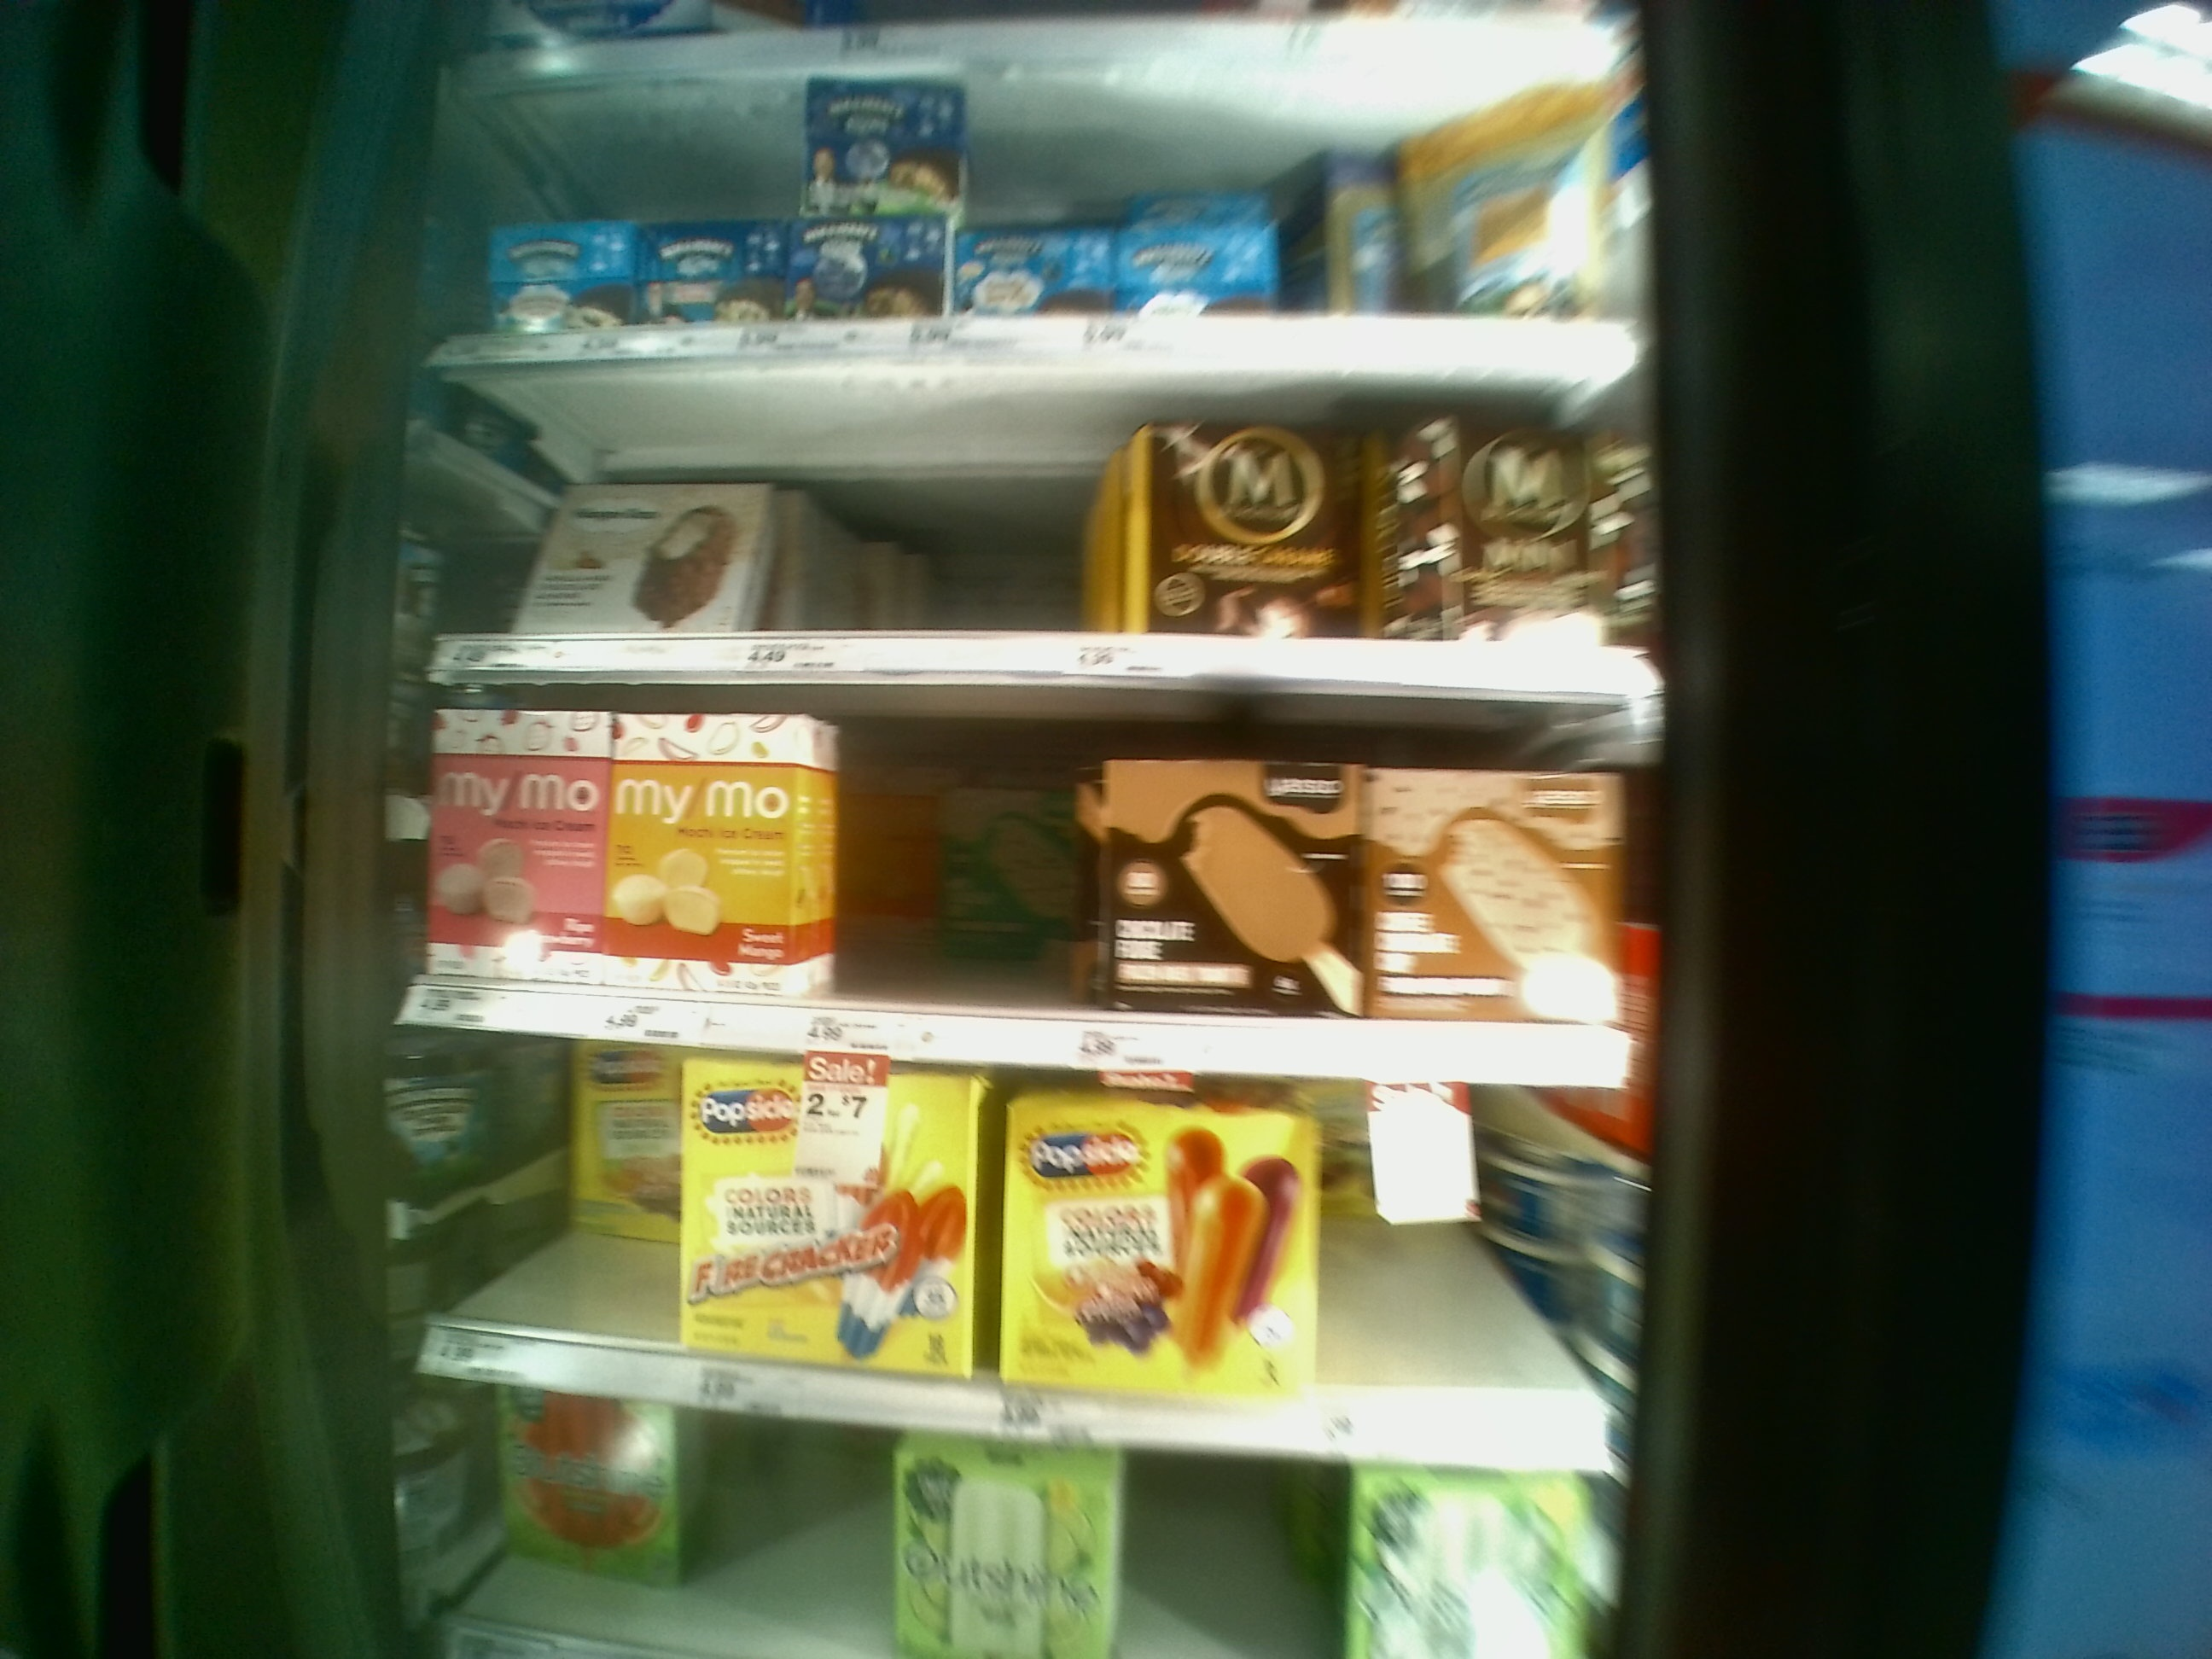ice-cream-shelf: (449, 19, 1662, 376), (446, 375, 1667, 697)
